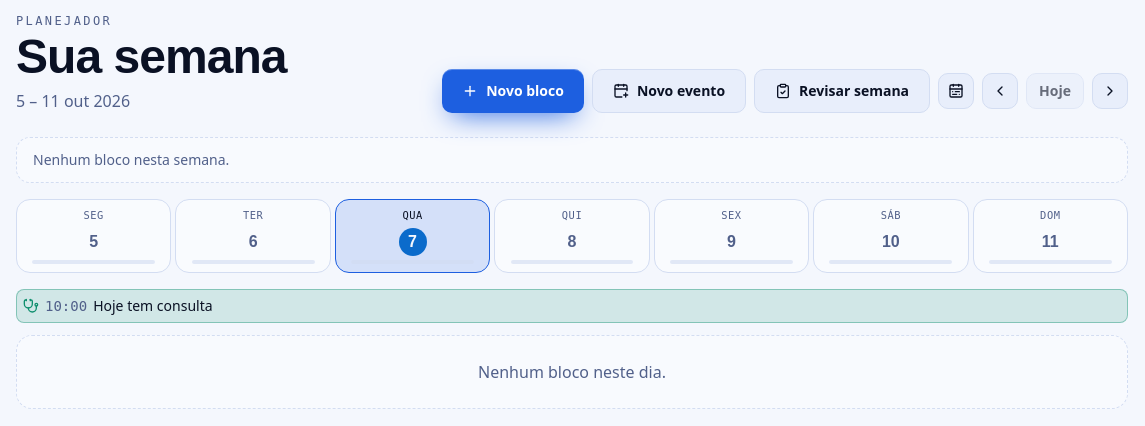
Test: eventos na Semana › celular (eventos do dia no topo da lista) › mostra os eventos do dia aberto e troca ao mudar de dia
Expected: the button "10:00 Hoje tem consulta" is shown, [16, 289, 1128, 323]
Expected: the text "Sexta tem viagem" is not shown
Click the tab with aria-label "sexta-feira": (731, 236) [654, 199, 809, 273]
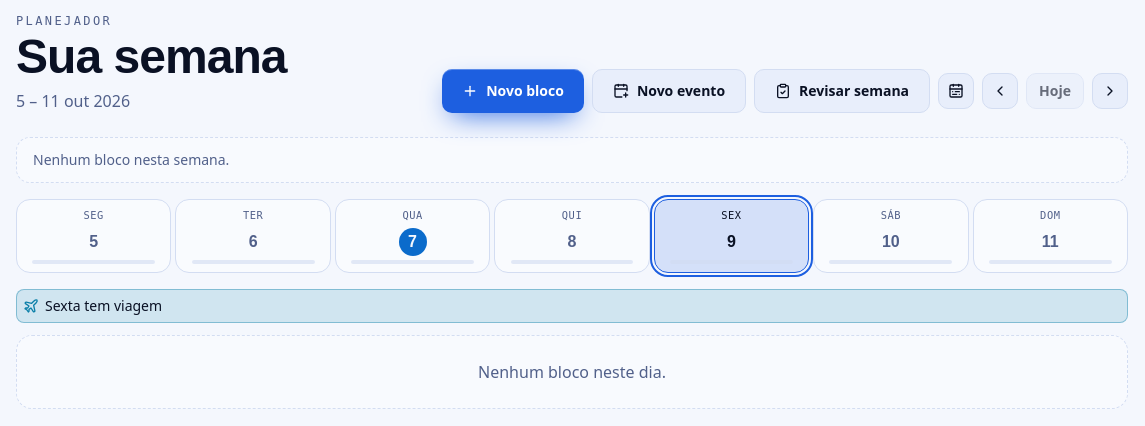
Expected: the button "Sexta tem viagem" is shown, [16, 289, 1128, 323]
